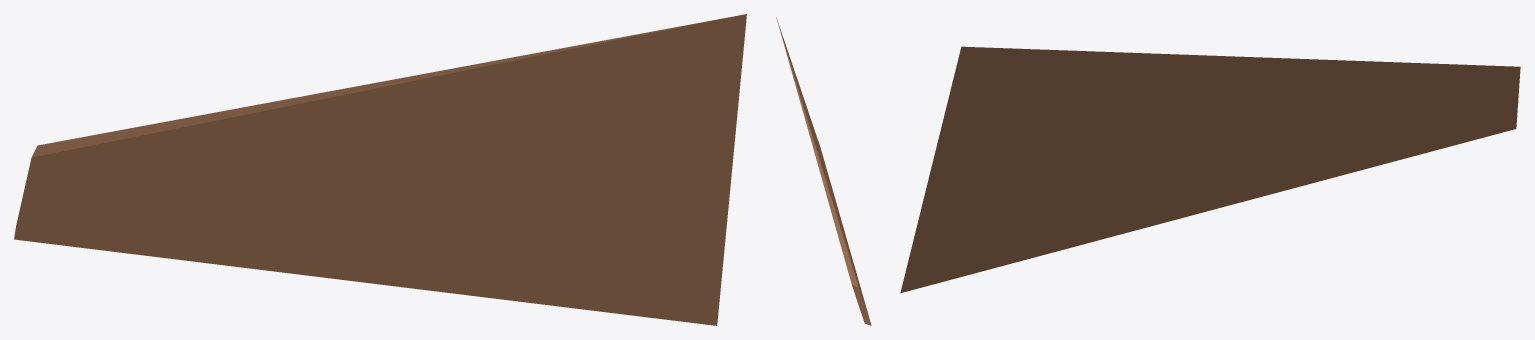
Rendered from WoodCellCube_003_cell_053.fbx.
The picture shows the model from 3 angles, left to right: view 1: azimuth 30°, elevation 25°; view 2: azimuth 150°, elevation 25°; view 3: azimuth 270°, elevation 25°; orthographic projection. The views are drawn at different scales.
Parts seen in each view (by area): view 1: WoodCellCube_003_cell_053; view 2: WoodCellCube_003_cell_053; view 3: WoodCellCube_003_cell_053.
Boxes of the visible parts, box(x1,y1,x2,y2) form: WoodCellCube_003_cell_053: box(14, 14, 746, 325); WoodCellCube_003_cell_053: box(776, 17, 871, 325); WoodCellCube_003_cell_053: box(900, 46, 1520, 293).
Size of the model in its own units: 0.3715 by 0.2062 by 0.3211.
1 material, 1 textured.
